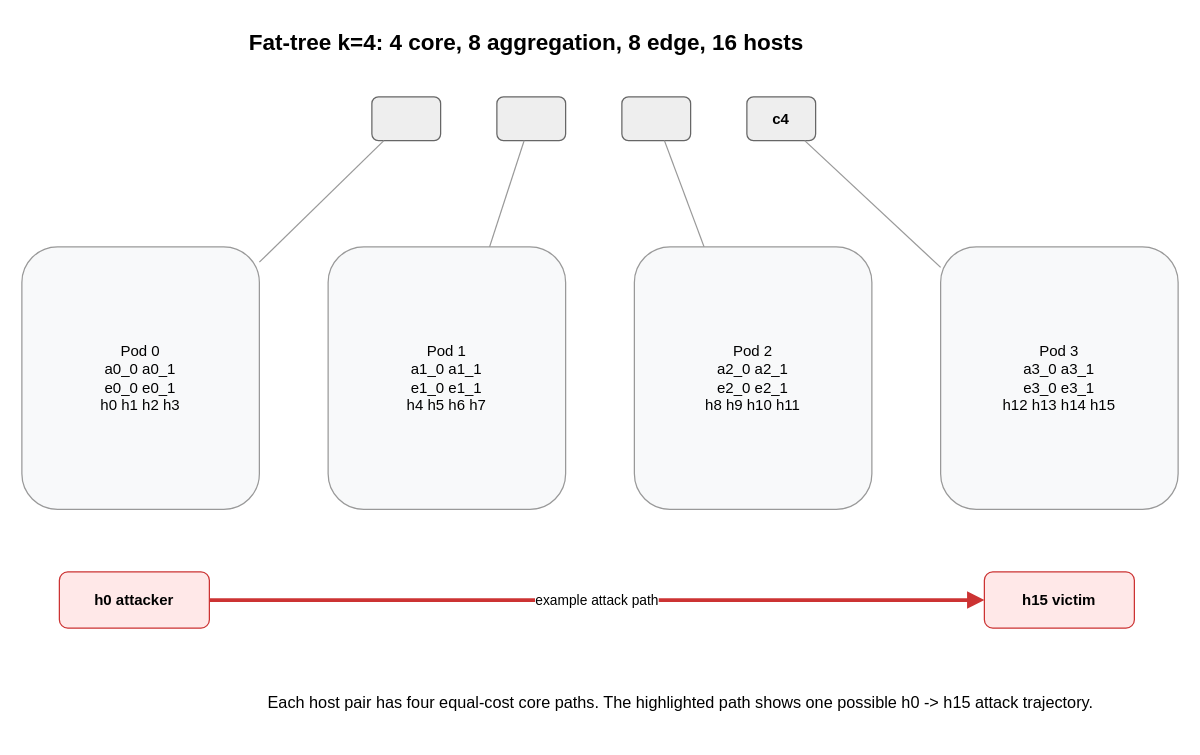
This 1200x755 diagram has some shape labels left out. The shapes that lost their labels are listed below. From the top down, each one's centre as x and y in pixels, then its label:
At point (406, 118): "c1".
At point (531, 118): "c2".
At point (656, 118): "c3".
